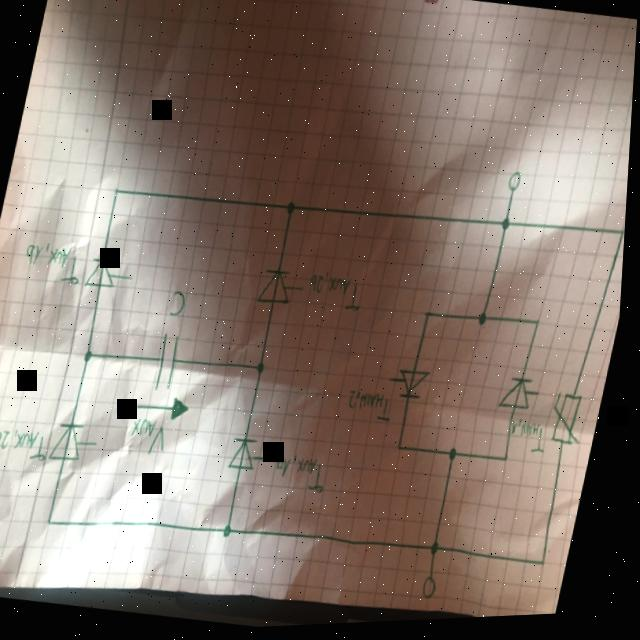capacitor: (154, 330, 187, 396)
junction: (480, 315, 493, 332), (502, 221, 515, 237), (452, 450, 464, 467), (228, 525, 240, 542), (258, 363, 271, 378), (436, 544, 447, 561), (287, 203, 299, 218), (86, 350, 98, 365), (544, 562, 554, 574), (426, 313, 436, 325), (114, 187, 123, 199), (620, 233, 628, 246), (51, 518, 60, 529), (538, 322, 547, 332), (400, 447, 408, 458), (507, 460, 515, 469)
terminal: (425, 578, 447, 605), (508, 174, 526, 199)
text: (21, 237, 91, 290), (306, 270, 371, 319), (274, 453, 337, 499), (0, 423, 57, 467), (348, 389, 402, 430), (130, 416, 177, 460), (511, 421, 557, 462), (169, 290, 193, 322)
thyristor: (51, 419, 93, 466), (258, 268, 301, 310), (501, 377, 542, 419), (396, 369, 437, 407), (230, 436, 268, 475), (85, 255, 124, 293)
